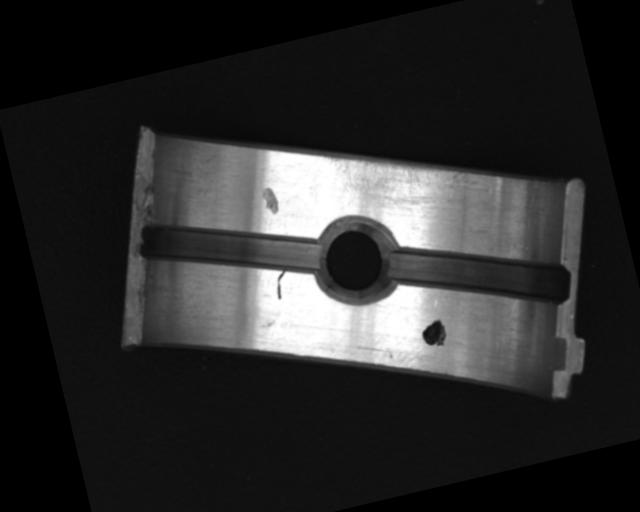blot: (418, 316, 450, 351)
bruise: (259, 183, 282, 218)
gap: (381, 215, 575, 338), (135, 187, 324, 308)
hole: (302, 207, 407, 310)
nick: (271, 269, 292, 300)
scratch: (320, 120, 482, 223)
